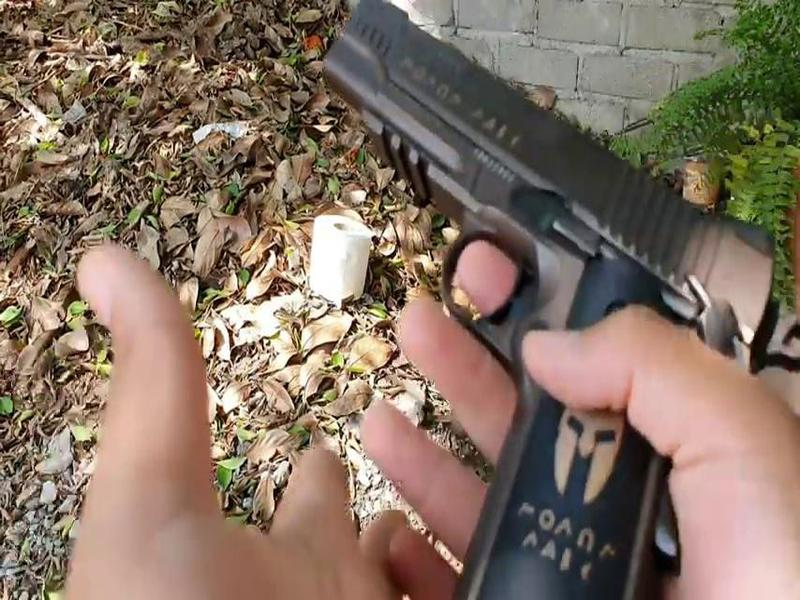Pistola: (303, 4, 794, 599)
